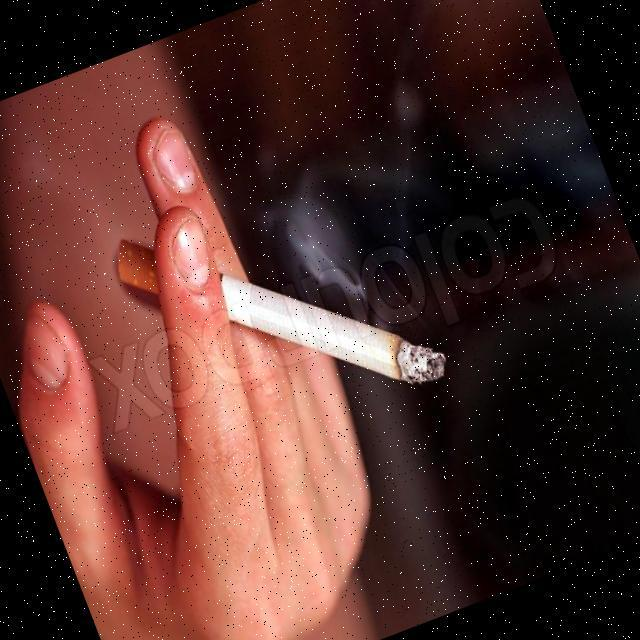cigarette: (110, 160, 453, 475)
